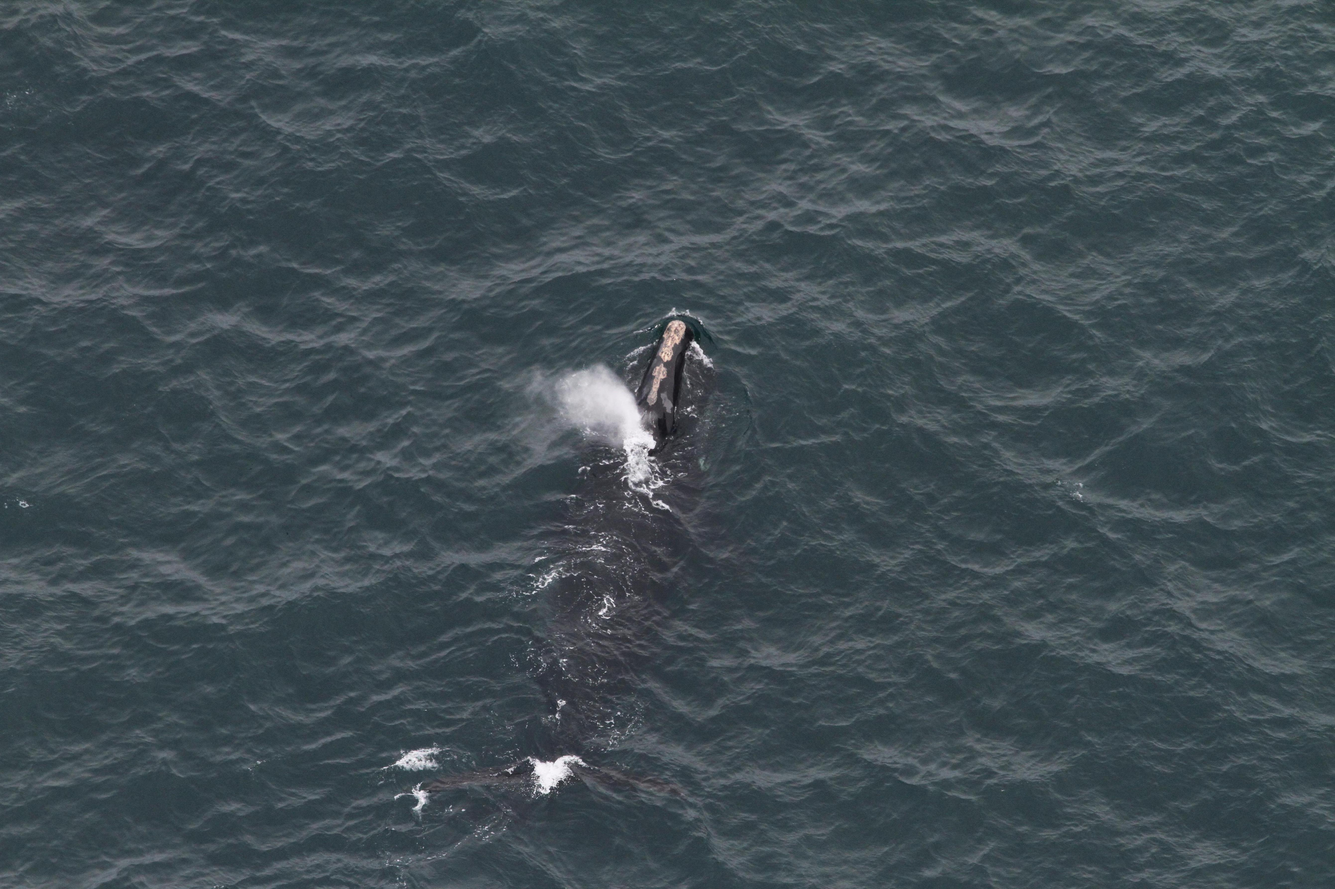whale: (419, 307, 733, 817)
